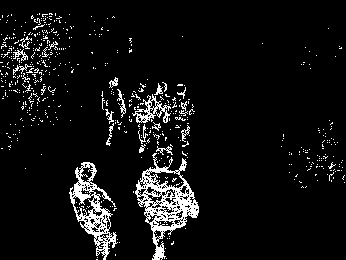person: (133, 146, 200, 260), (67, 161, 122, 260), (130, 78, 154, 153), (101, 77, 126, 146), (171, 83, 196, 152), (152, 82, 174, 148)
